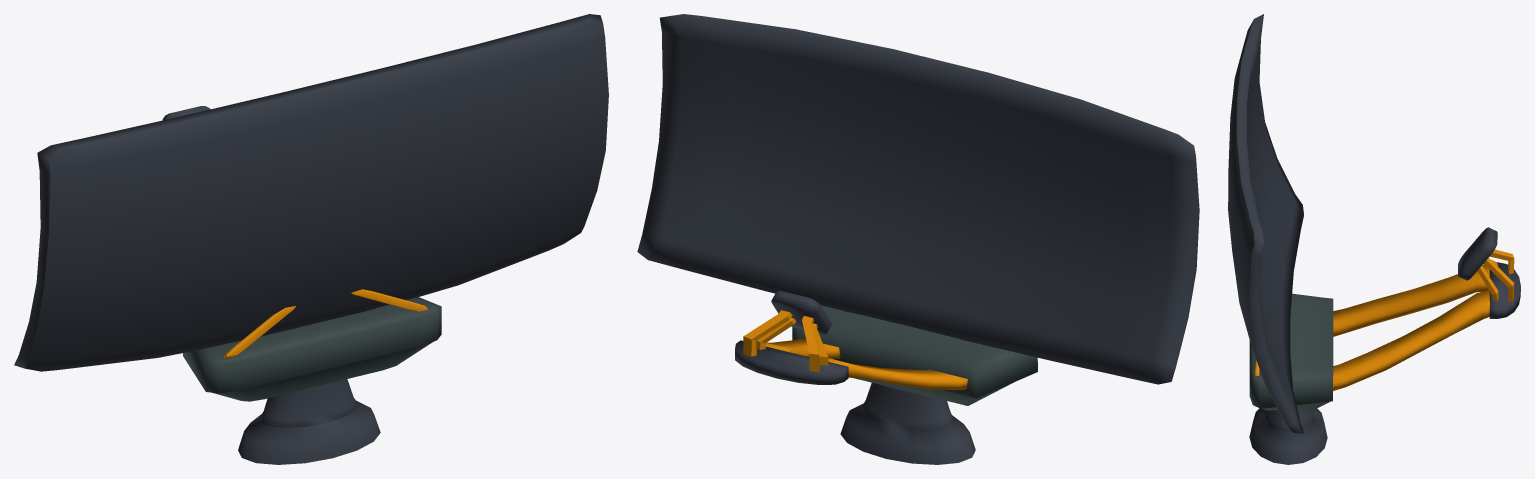
The model's file is radar 2.fbx.
The picture shows the model from 3 angles, left to right: view 1: azimuth 30°, elevation 25°; view 2: azimuth 150°, elevation 25°; view 3: azimuth 270°, elevation 25°; orthographic projection. The views are drawn at different scales.
Parts seen in each view (by area): view 1: radar.002; view 2: radar.002; view 3: radar.002.
Boxes of the visible parts, x1=… form: radar.002: x1=14, y1=14, x2=608, y2=464; radar.002: x1=637, y1=14, x2=1199, y2=464; radar.002: x1=1228, y1=14, x2=1520, y2=464.
Size of the model in its own units: 194 by 125 by 105.
